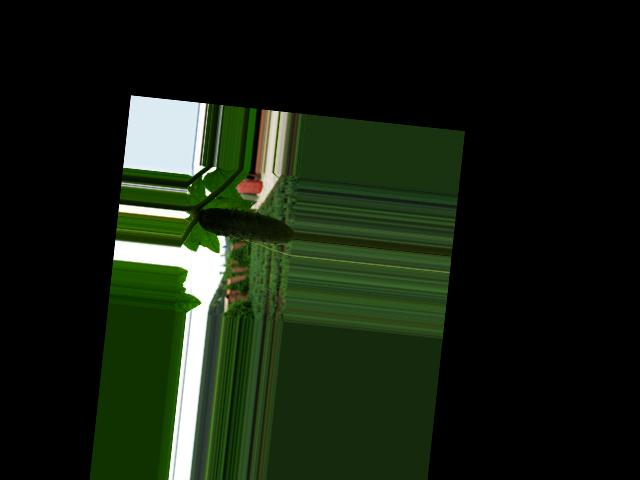cucumber: (197, 206, 296, 246)
